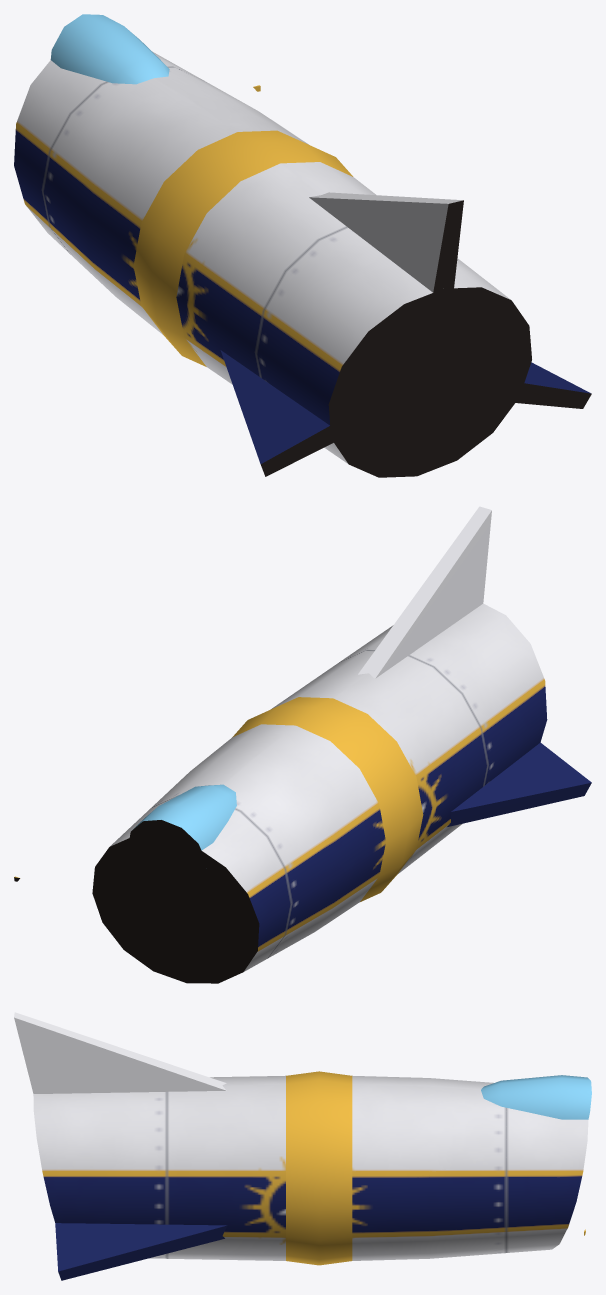
The model's file is senate_patrol_debris2.obj.
3 views of the same model, one above another, from view 1: azimuth 30°, elevation 25°; view 2: azimuth 150°, elevation 25°; view 3: azimuth 270°, elevation 25° (orthographic). The views are drawn at different scales.
Visible parts, largest first — view 1: hull, fin0, fin250, canopy, fin110; view 2: hull, fin0, canopy, fin250; view 3: hull, fin0, fin110, canopy.
Part boxes in pixels (x1,y1,x2,y2): hull: (14, 51, 531, 477); fin0: (309, 192, 463, 292); fin250: (220, 350, 333, 476); canopy: (50, 14, 169, 84); fin110: (482, 362, 591, 408); hull: (92, 603, 547, 983); fin0: (358, 506, 491, 678); canopy: (129, 784, 236, 893); fin250: (447, 742, 591, 826); hull: (33, 1071, 588, 1265); fin0: (14, 1012, 226, 1093); fin110: (55, 1223, 227, 1280); canopy: (481, 1075, 591, 1119).
Size of the model in its own units: 2.68 by 2.42 by 5.24.
6 materials, 1 textured.
